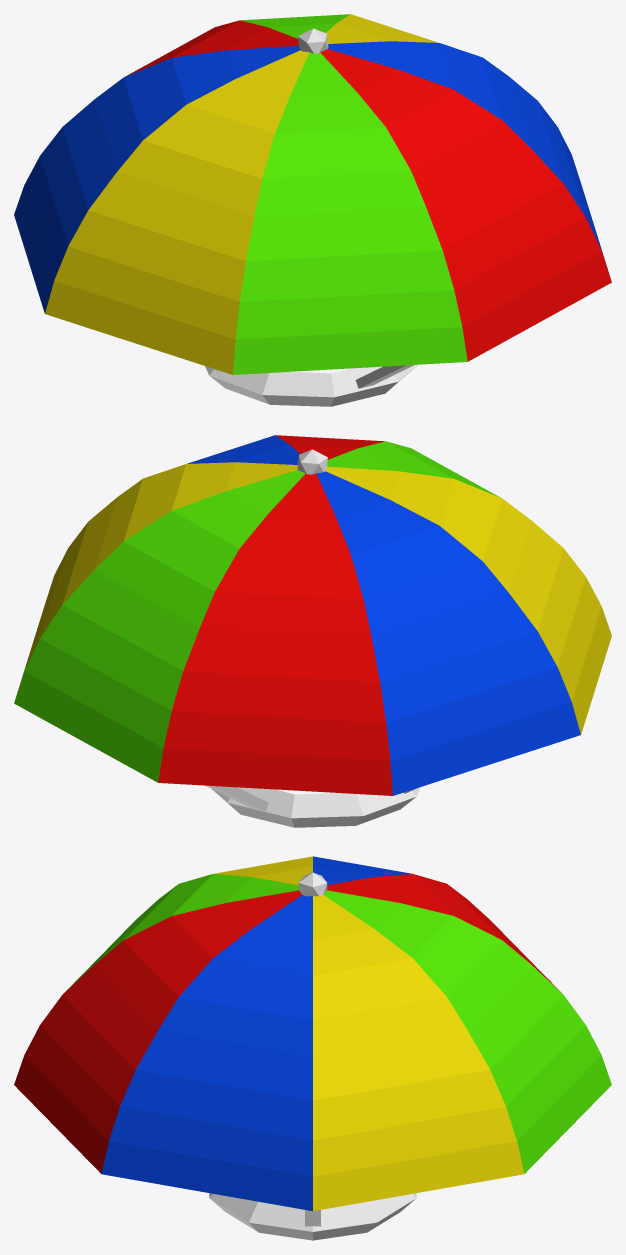
Rendered from chicken_acc_umbrellahat.fbx.
3 renders of one model, top to bottom at view 1: azimuth 30°, elevation 25°; view 2: azimuth 150°, elevation 25°; view 3: azimuth 270°, elevation 25°, orthographic. The views are drawn at different scales.
Visible parts, largest first — view 1: Torus; view 2: Torus; view 3: Torus.
Part boxes in pixels (bbox=[...]): Torus: bbox=[14, 14, 611, 406]; Torus: bbox=[14, 435, 611, 827]; Torus: bbox=[14, 856, 611, 1240].
Size of the model in its own units: 256 by 154 by 256.
